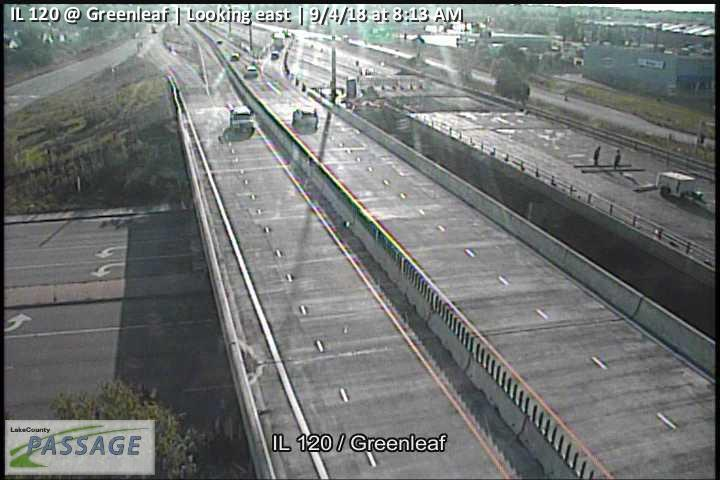SUV: (229, 104, 254, 130), (292, 107, 319, 131), (243, 63, 258, 78)
